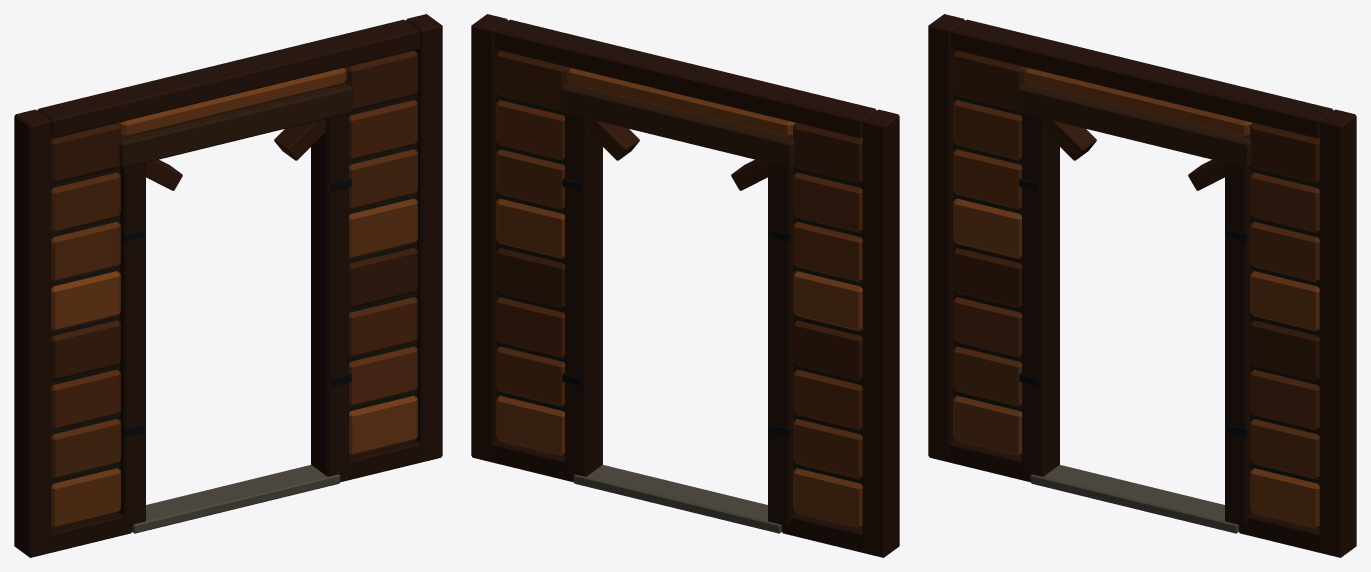
File: mod_plank_doorway_2x2m.glb
3 views of the same model, side by side, from view 1: azimuth 30°, elevation 25°; view 2: azimuth 150°, elevation 25°; view 3: azimuth 330°, elevation 25° (orthographic).
Parts seen in each view (by area): view 1: Mod_Plank_Doorway_2x2m; view 2: Mod_Plank_Doorway_2x2m; view 3: Mod_Plank_Doorway_2x2m.
Part boxes in pixels (bbox=[...]): Mod_Plank_Doorway_2x2m: bbox=[14, 14, 442, 557]; Mod_Plank_Doorway_2x2m: bbox=[471, 14, 899, 557]; Mod_Plank_Doorway_2x2m: bbox=[928, 14, 1356, 557].
Bounding box in the file's own units: 2 × 2 × 0.164.
